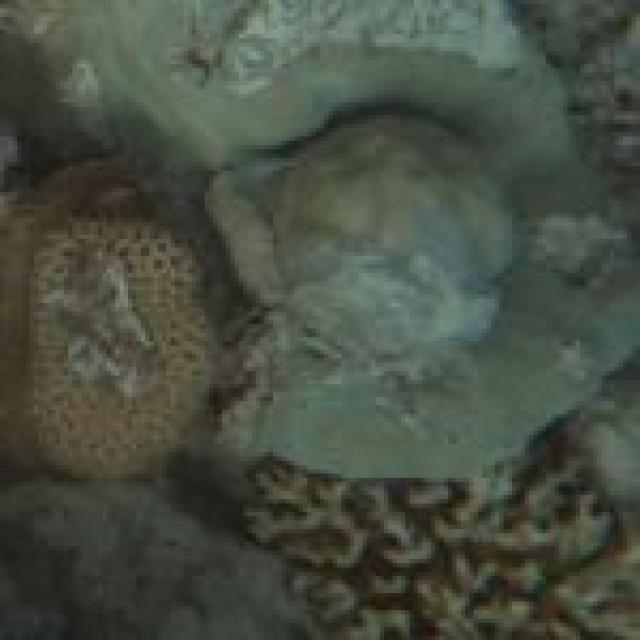Healthy Coral: (226, 446, 640, 640)
